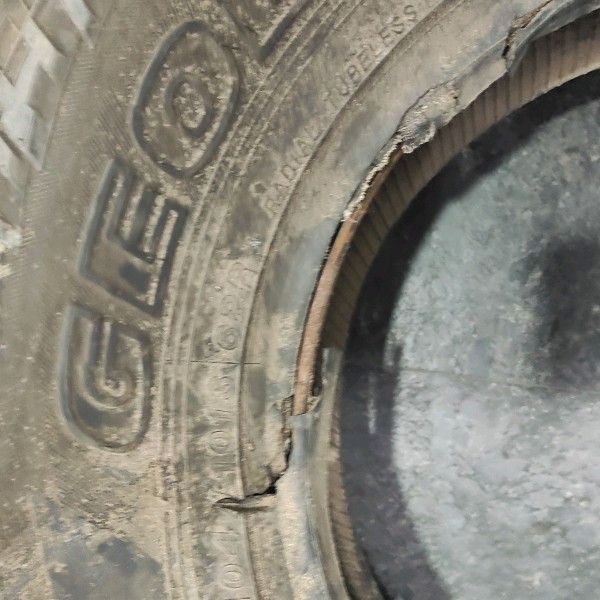bead_damage: (210, 1, 590, 533)
